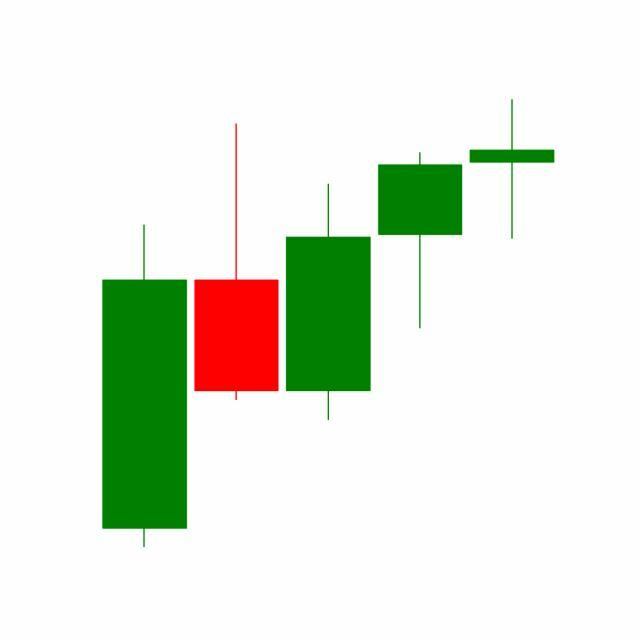Advance Block: (280, 99, 555, 425)
